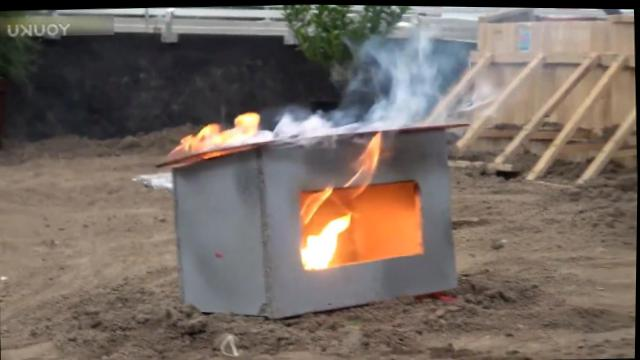fire: (303, 222, 335, 267), (182, 125, 230, 154), (231, 109, 262, 144), (358, 132, 383, 174), (300, 194, 319, 222), (332, 211, 354, 233), (316, 186, 331, 203)
